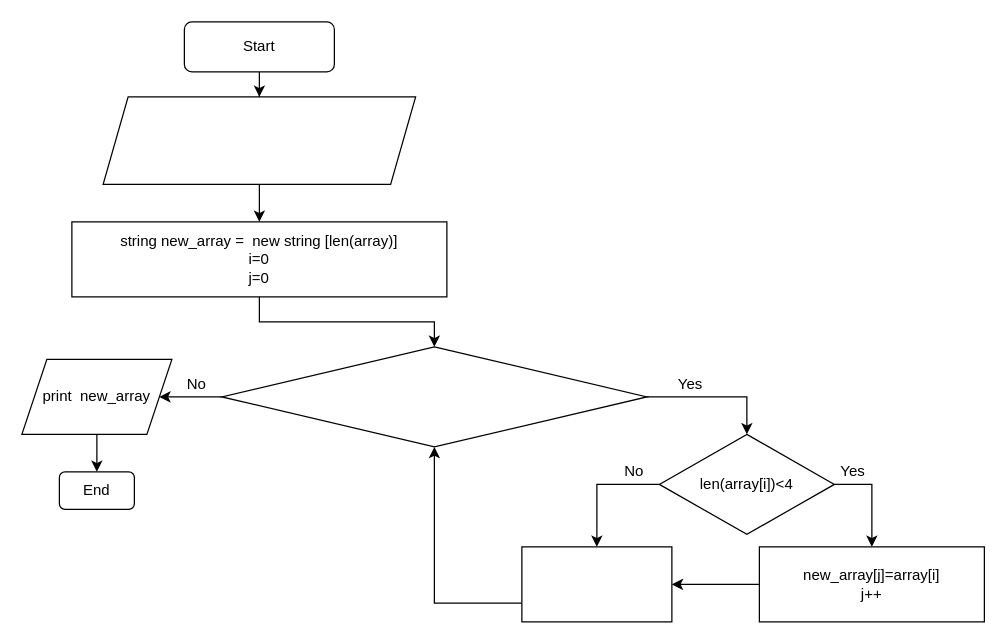
This 1006x644 diagram has some shape labels left out. The shapes that lost their labels are listed below. From the top down, each one's centre as x and y in pixels, then its label:
(259,140): array {"привет","123","кот"."солнце","2"}
(434,396): i<len(array)
(596,584): i++
